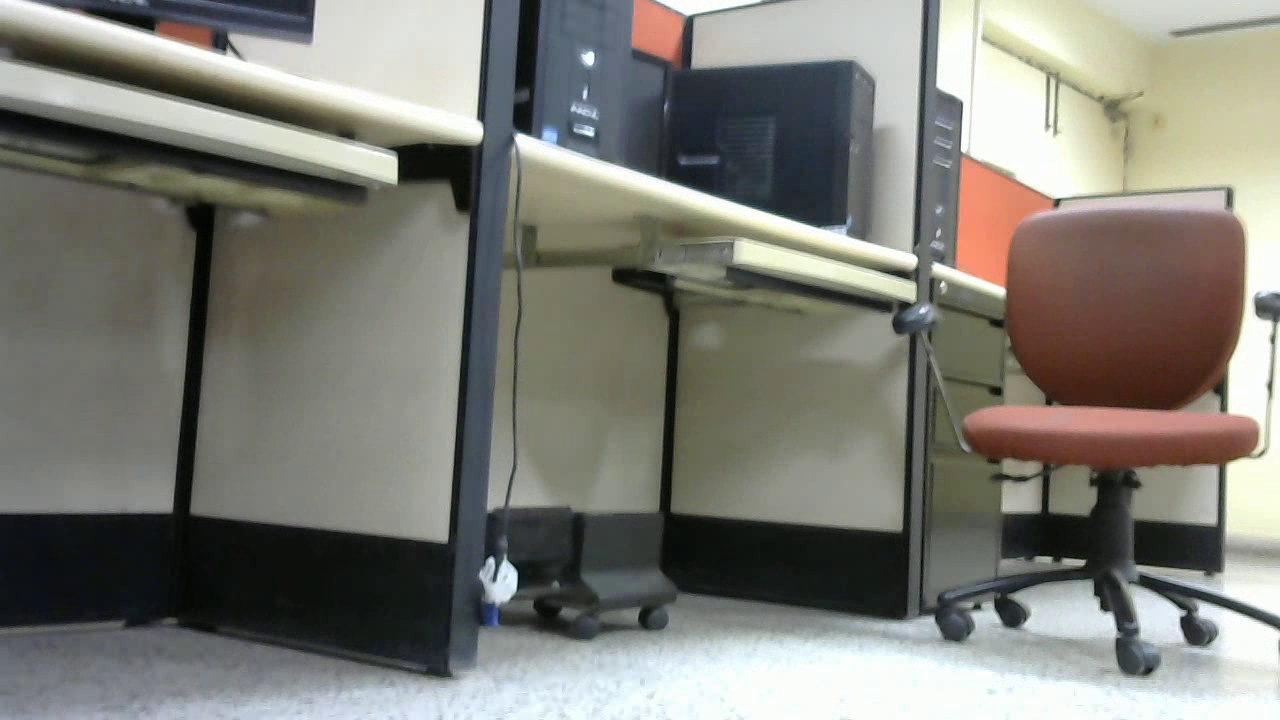chair: (455, 2, 953, 708), (1, 204, 139, 508)
